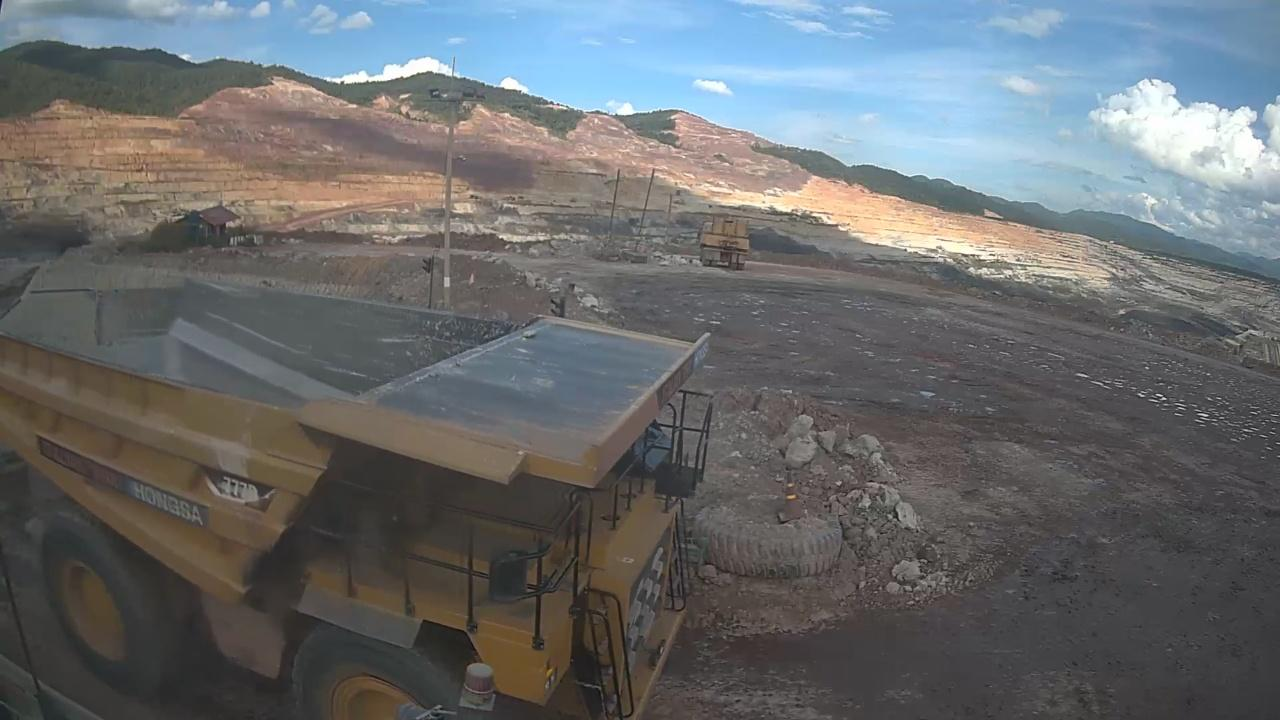company: (32, 433, 210, 542)
empty_load: (98, 296, 509, 411)
front_number: (626, 543, 668, 667)
mining_truck: (0, 255, 715, 718)
truck_size: (203, 469, 274, 509)
